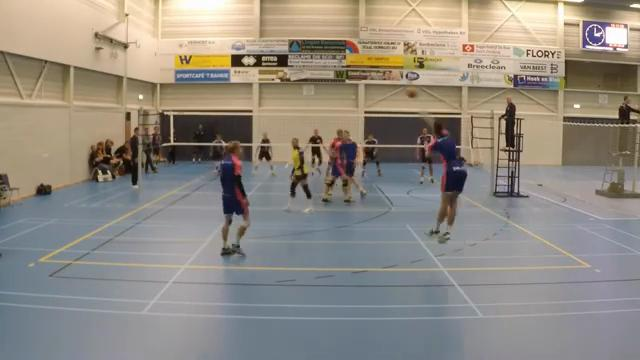Player: (220, 141, 249, 255), (285, 138, 312, 212), (322, 129, 348, 201), (341, 130, 366, 195), (416, 128, 434, 183), (254, 132, 275, 175), (362, 134, 380, 176), (308, 129, 323, 173), (211, 134, 225, 171)
Serve: (414, 107, 468, 246)
ball: (405, 86, 418, 98)
